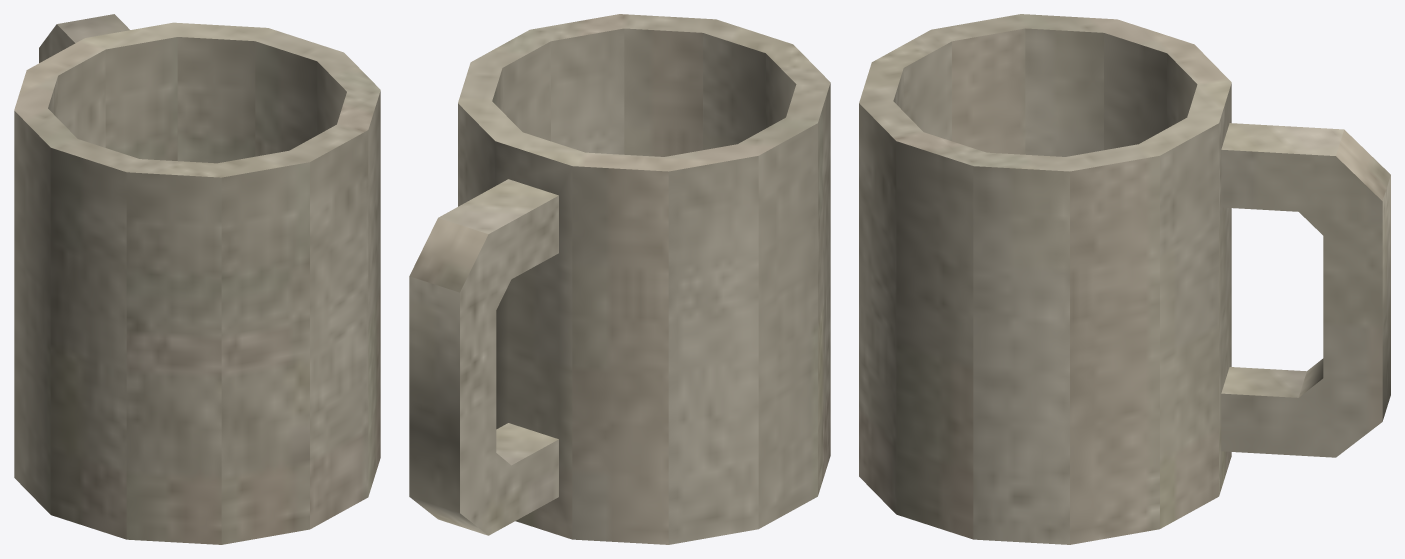
The picture shows the model from 3 angles, left to right: view 1: azimuth 30°, elevation 25°; view 2: azimuth 150°, elevation 25°; view 3: azimuth 270°, elevation 25°; orthographic projection.
Parts seen in each view (by area): view 1: mesh1_mesh1-geometry; view 2: mesh1_mesh1-geometry; view 3: mesh1_mesh1-geometry.
Part boxes in pixels (x1,y1,x2,y2): mesh1_mesh1-geometry: (14, 14, 380, 544); mesh1_mesh1-geometry: (409, 14, 830, 544); mesh1_mesh1-geometry: (859, 14, 1390, 544).
Size of the model in its own units: 0.4846 by 0.5358 by 0.6915.
Materials: 2 (1 with a texture image).
